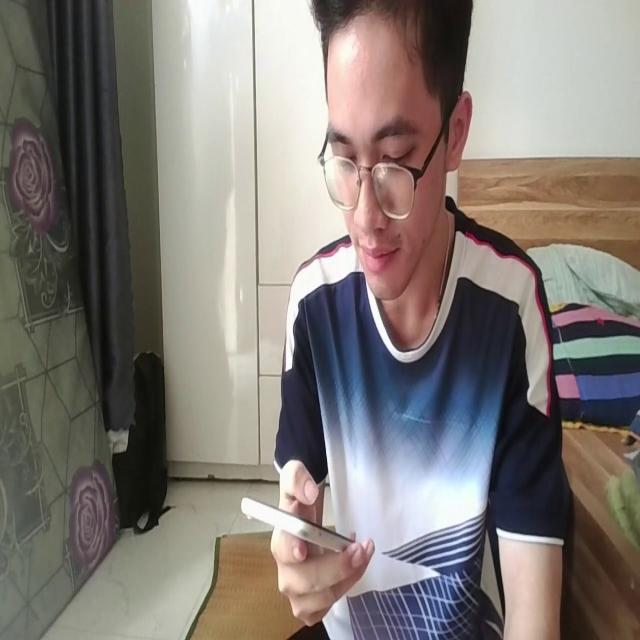phone: (240, 487, 368, 566)
student: (271, 1, 566, 640)
